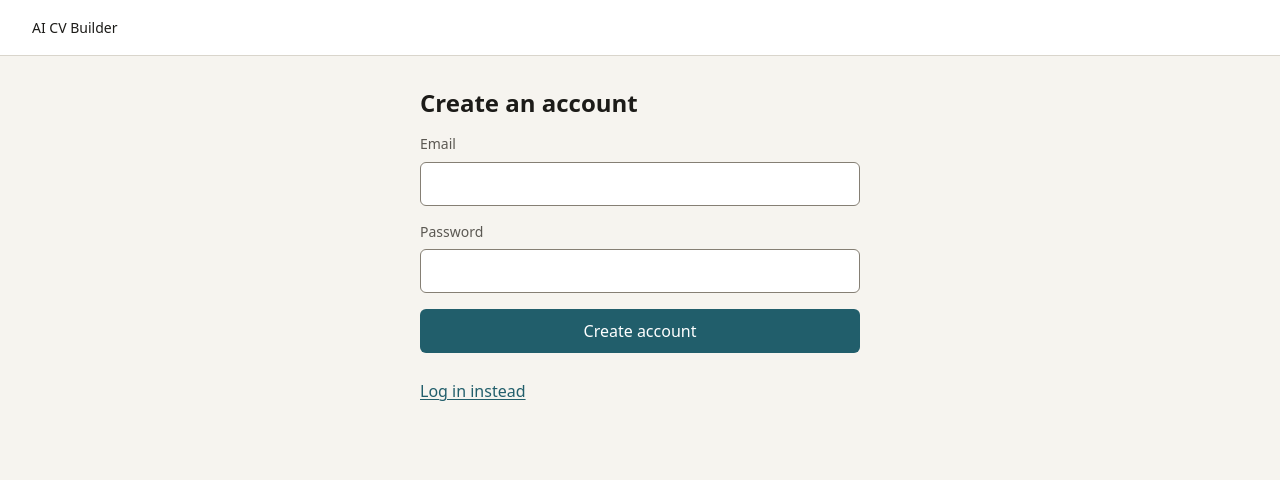
Test case: sign-up form (C-001, CVB-6) › shows the envelope message in an alert for 409 and marks no field as invalid
This screenshot has width=1280, height=480.
In the field labelled "Email": (640, 184) [420, 162, 860, 206], type "taken@example.com"
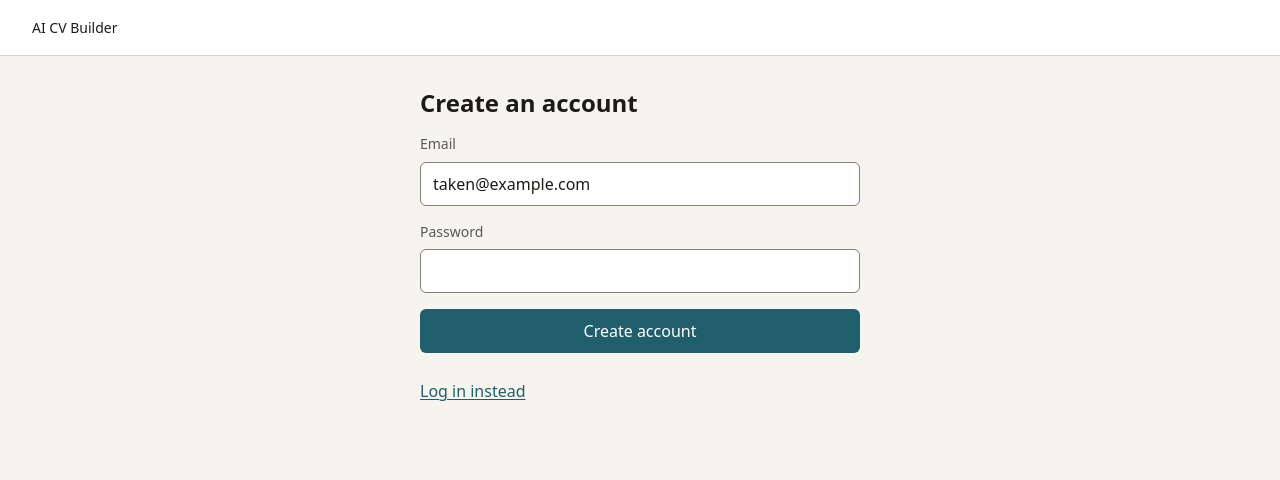
In the password field labelled "Password": (640, 271) [420, 249, 860, 293], type "correct-horse-battery"
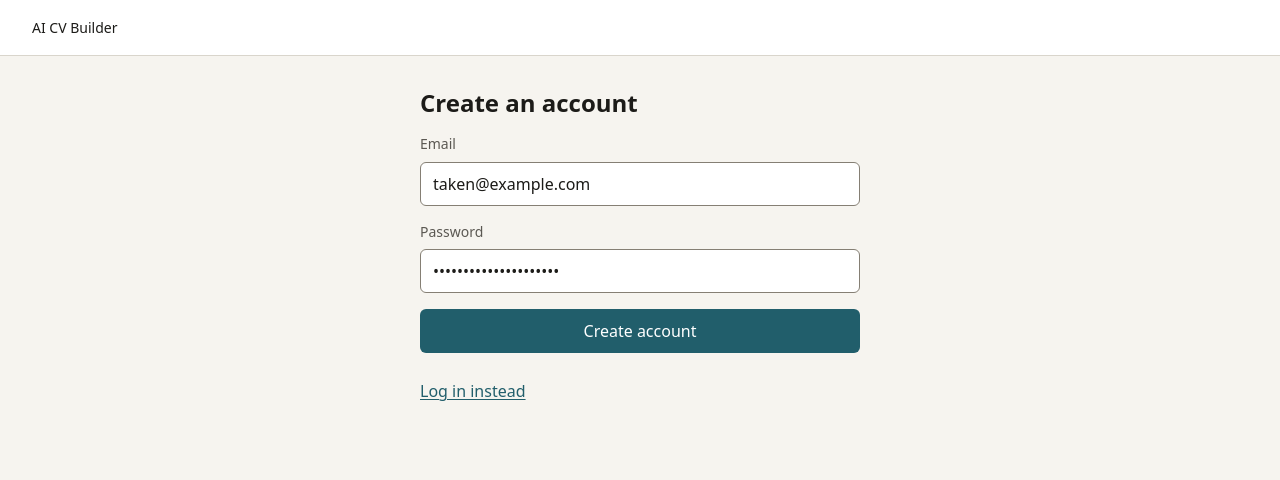
Submit the form labelled "Email Password Create account", box [420, 134, 860, 353]
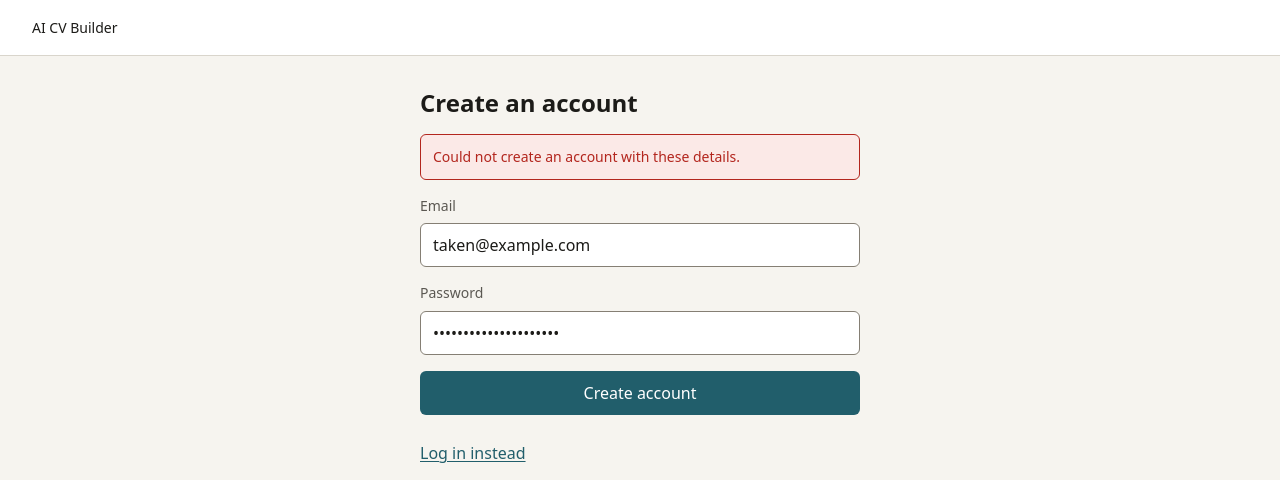
Expected: the message reads "Could not create an account with these details.", [433, 147, 740, 166]
